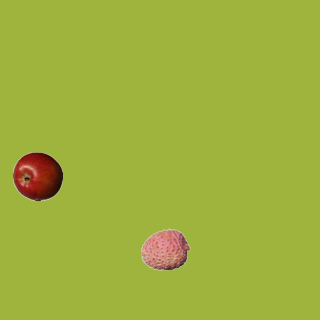Apple Braeburn: (12, 151, 62, 201)
Lychee: (140, 224, 190, 274)
